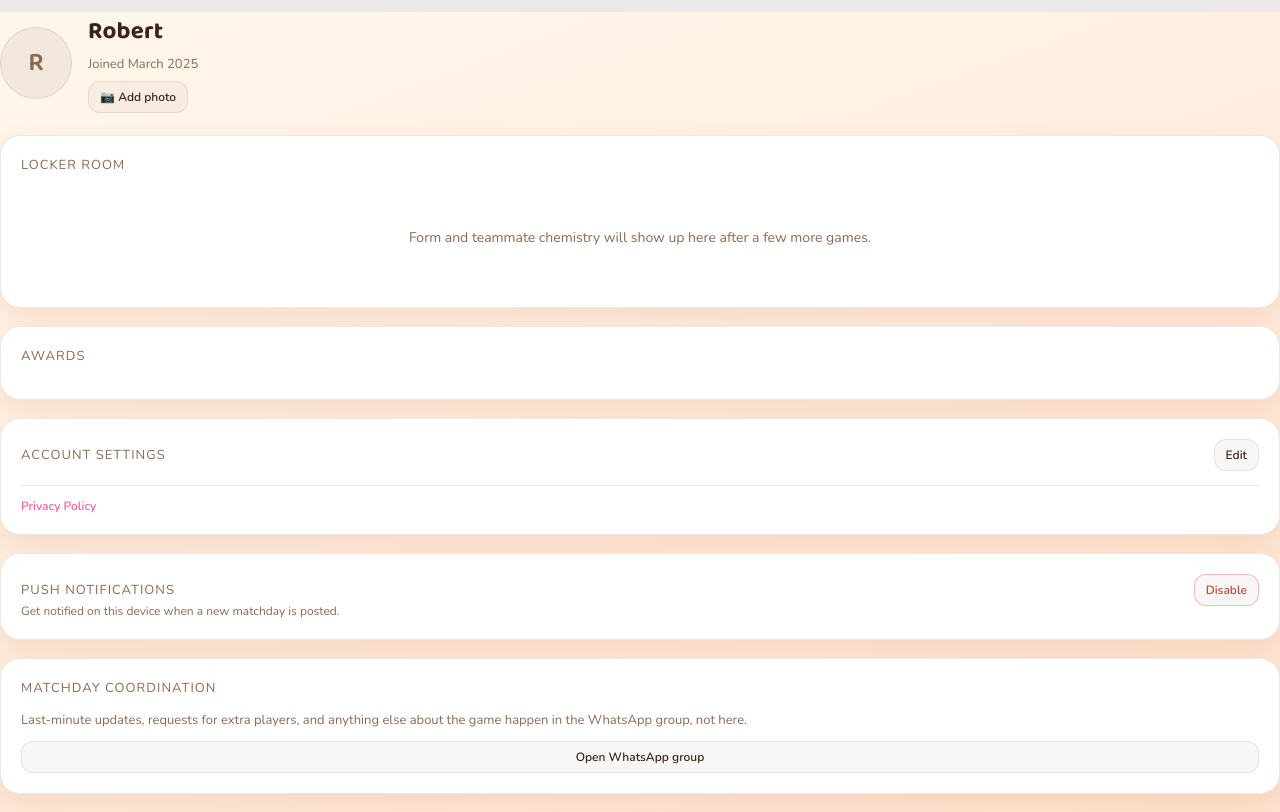
Test: PlayerProfile - push notifications › shows Disable straight away when already subscribed, and turns them off
This screenshot has width=1280, height=812.
Click the button "Disable": (1226, 590) [1194,574,1259,606]
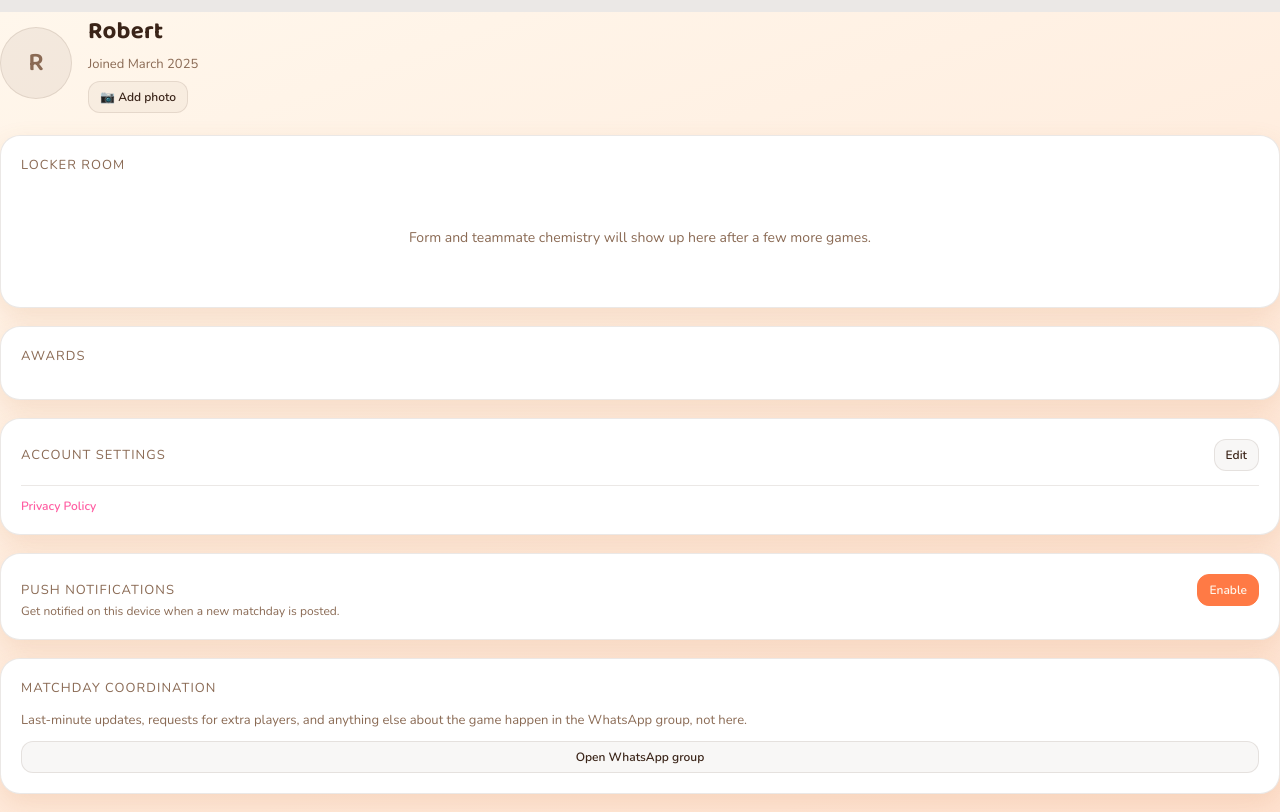
expect the button "Enable" is shown: met, box [1197,574,1259,606]
